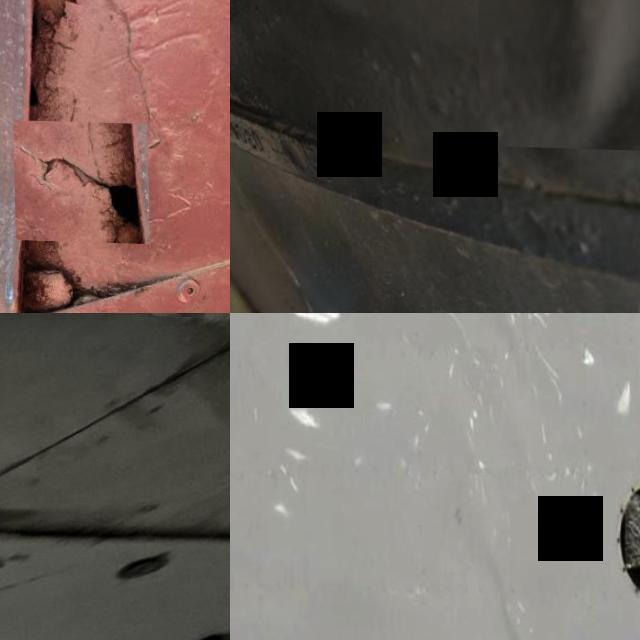Crack: (13, 118, 148, 242)
Dent: (474, 0, 640, 148), (485, 554, 526, 640)
Missing_Fastener: (0, 546, 21, 590), (191, 622, 229, 640)
